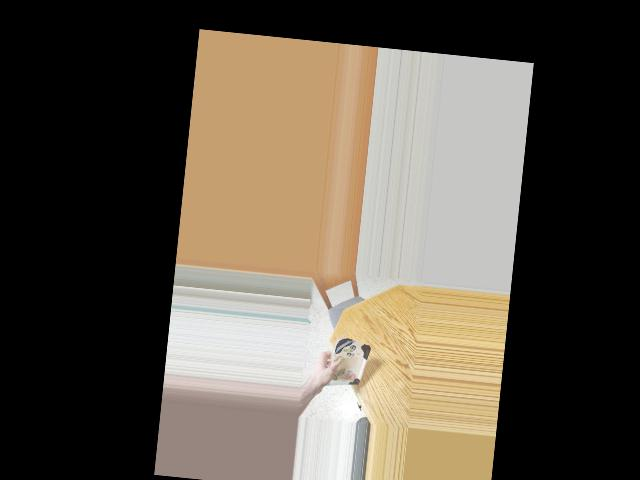cheese: (323, 334, 368, 397)
